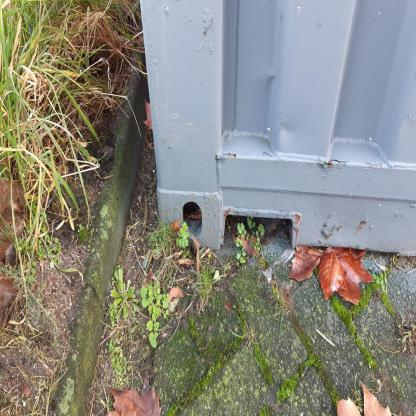CornerCasting: (152, 180, 226, 252)
